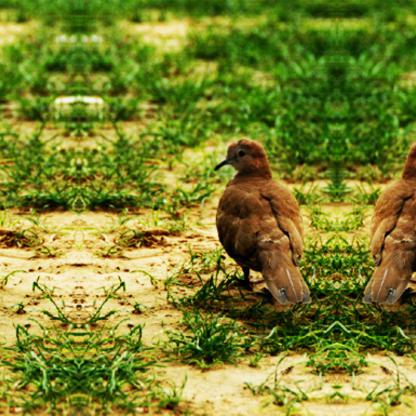Bird: (212, 137, 308, 317), (364, 137, 415, 318)
